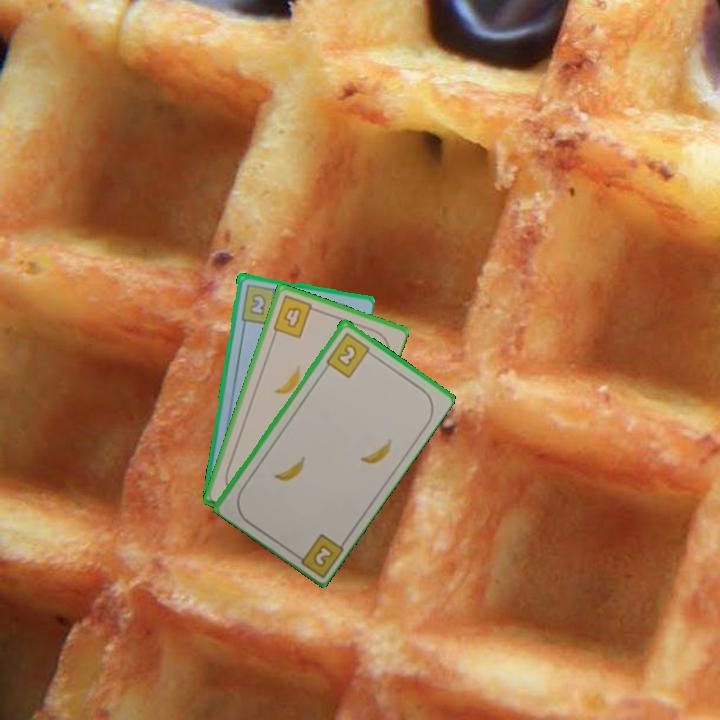2b: (322, 329, 376, 380), (289, 530, 346, 578), (237, 280, 284, 326)
4b: (269, 292, 320, 341)
